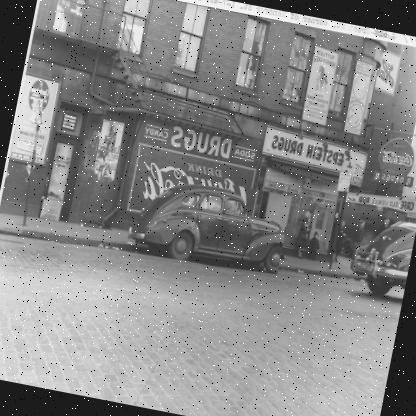Car: (132, 169, 291, 279), (344, 213, 415, 301)
